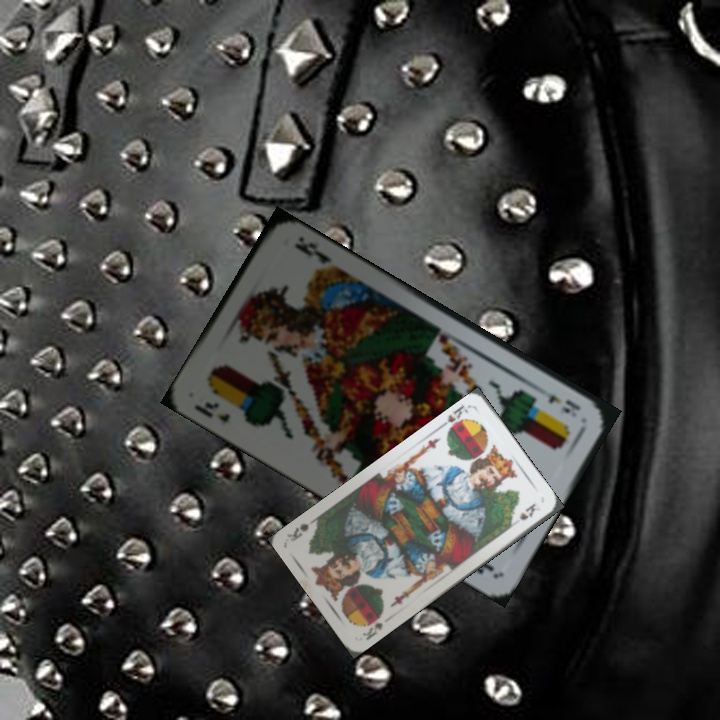EK: (534, 383, 584, 416), (189, 397, 233, 426)
SK: (437, 401, 472, 436), (358, 618, 385, 643)
